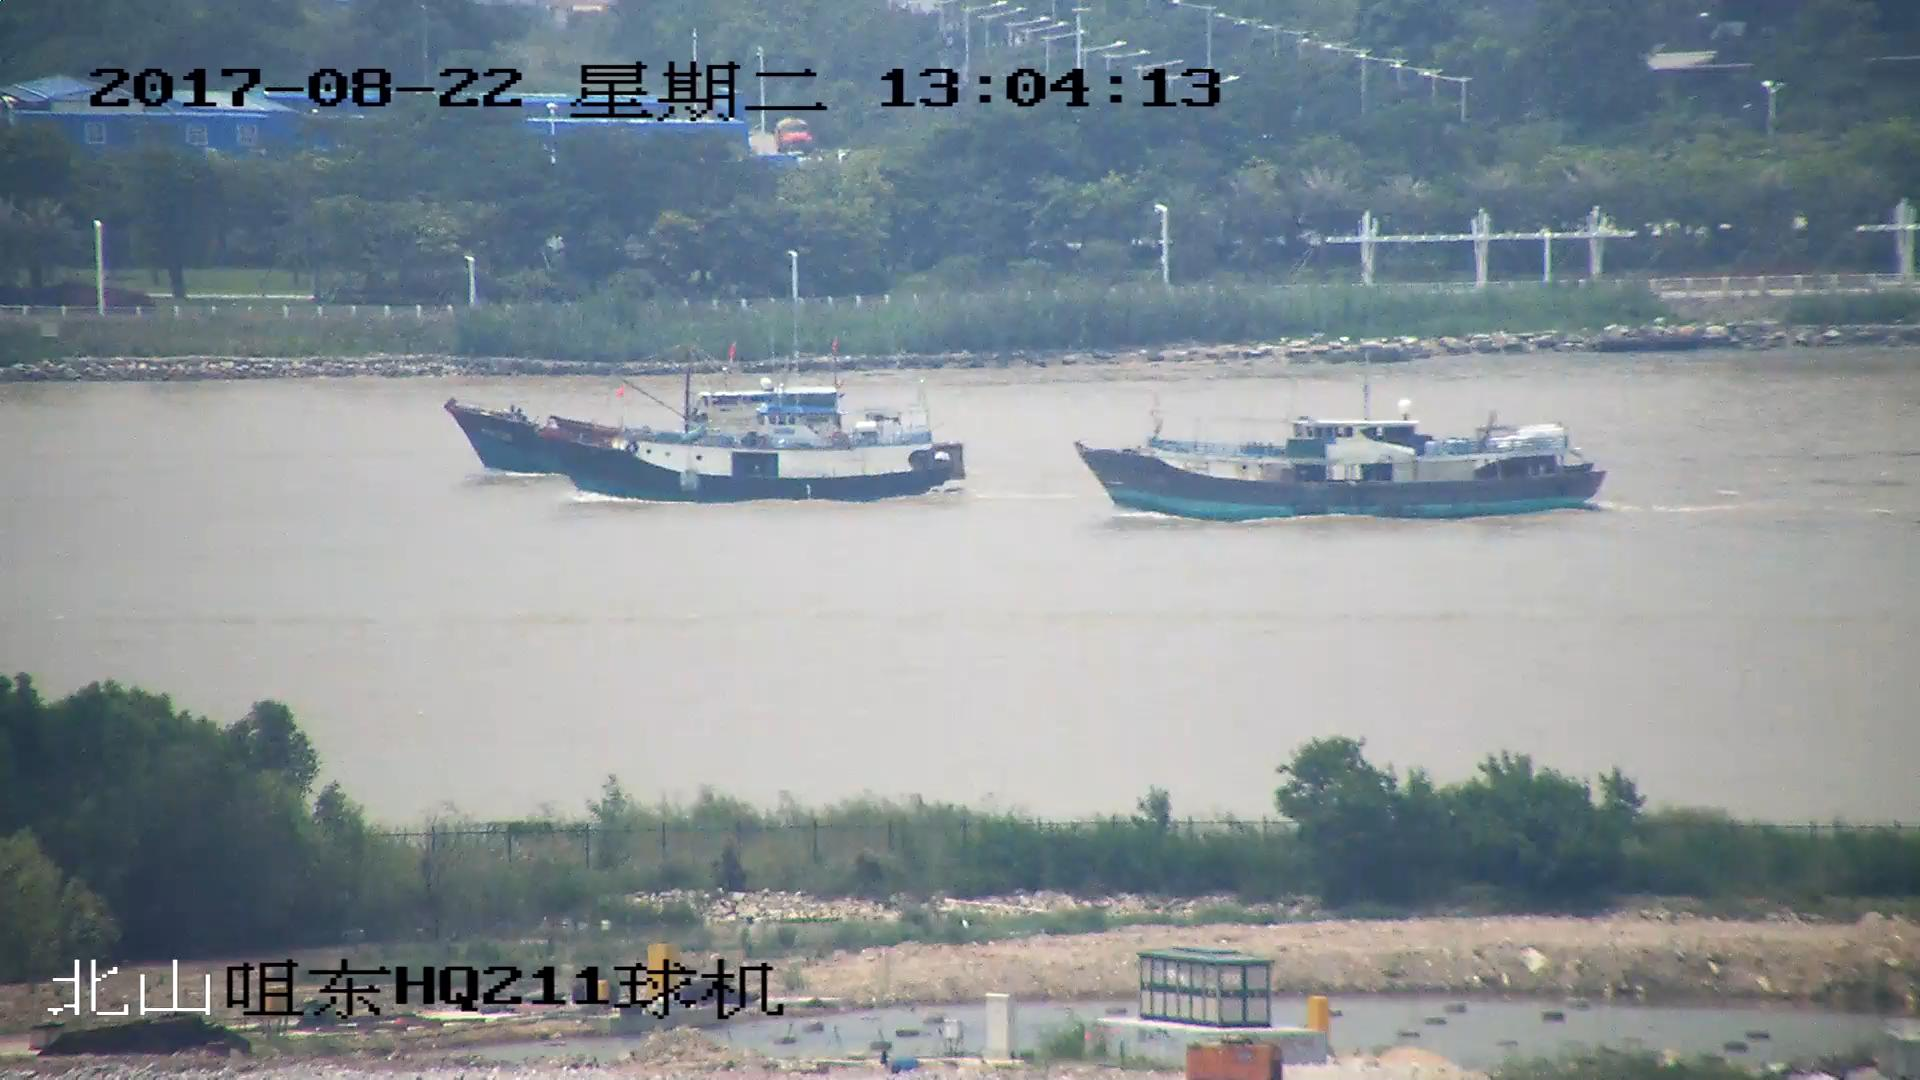fishing boat: (1078, 405, 1604, 522), (542, 403, 961, 508), (446, 384, 880, 478)
